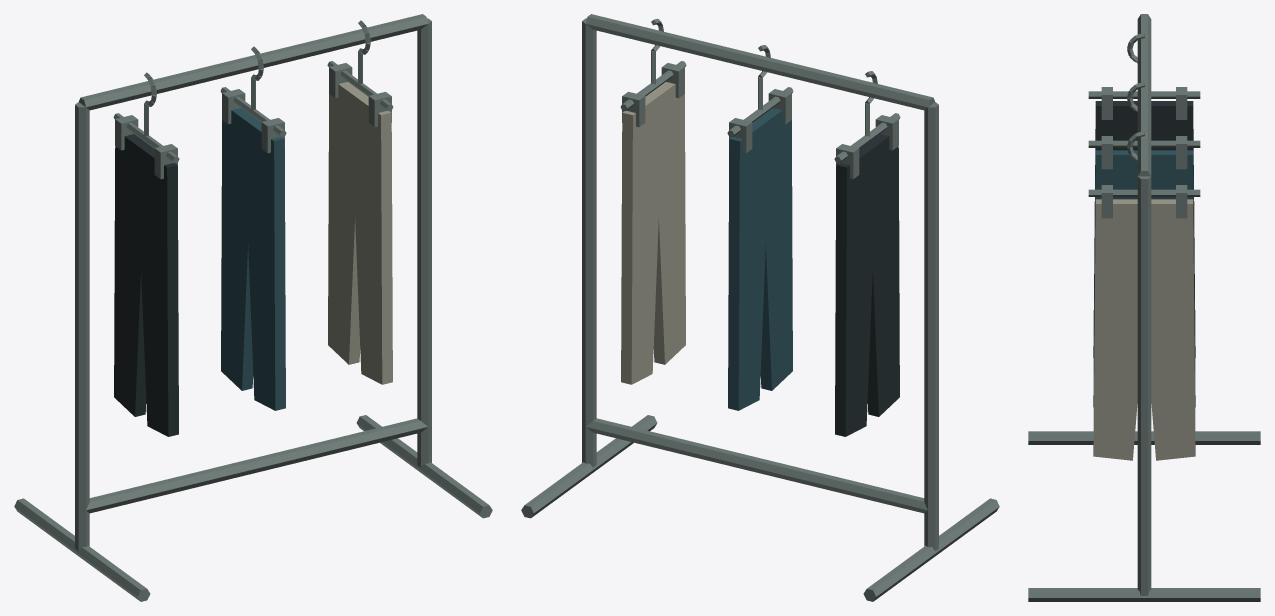
3 views of the same model, side by side, from view 1: azimuth 30°, elevation 25°; view 2: azimuth 150°, elevation 25°; view 3: azimuth 270°, elevation 25° (orthographic). The views are drawn at different scales.
Visible parts, largest first — view 1: a56; view 2: a56; view 3: a56.
Boxes of the visible parts, x1,y1,x2,y2 form: a56: (14, 14, 492, 601); a56: (521, 14, 999, 601); a56: (1028, 14, 1260, 601).
Size of the model in its own units: 0.83 by 1.05 by 0.5.
